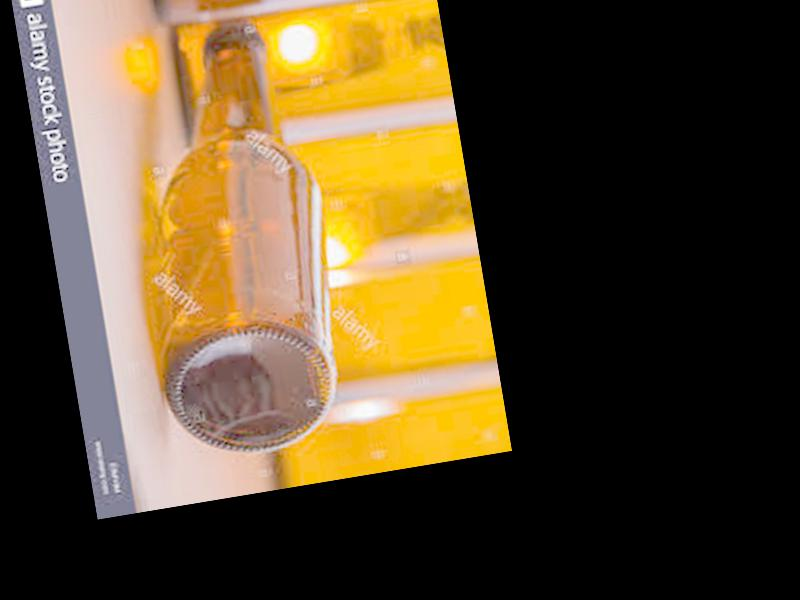Beer: (99, 17, 362, 469)
